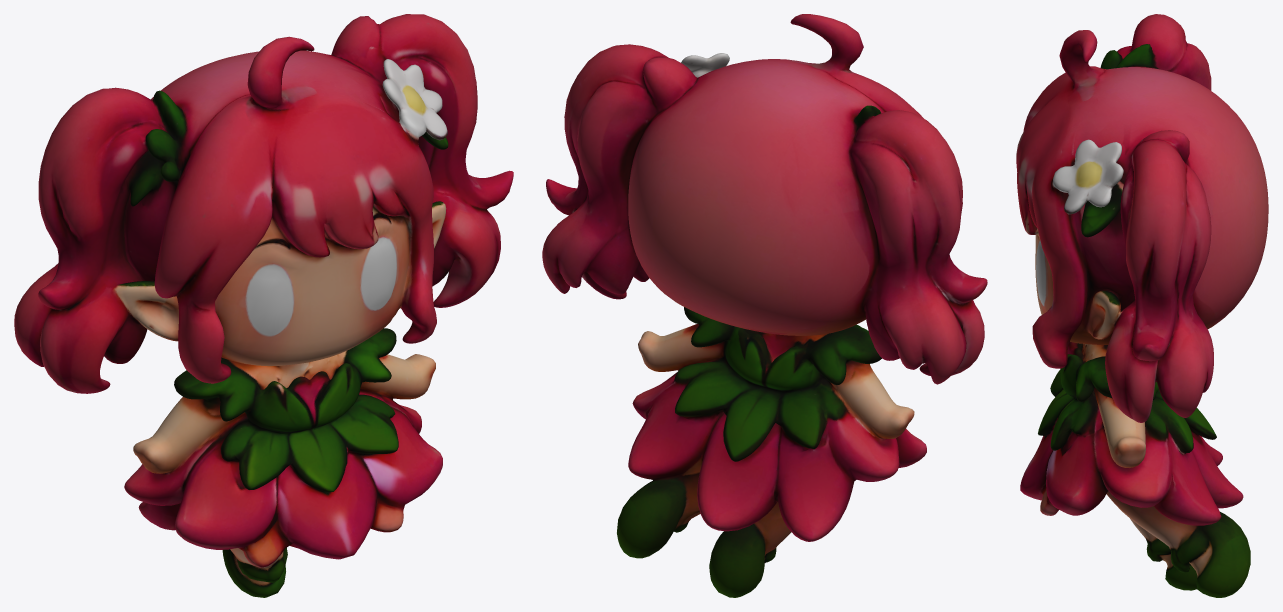
Rendered from PlayerModel.fbx.
3 views of the same model, side by side, from view 1: azimuth 30°, elevation 25°; view 2: azimuth 150°, elevation 25°; view 3: azimuth 270°, elevation 25° (orthographic). The views are drawn at different scales.
Visible parts, largest first — view 1: tripo_node_97e7c338; view 2: tripo_node_97e7c338; view 3: tripo_node_97e7c338.
Boxes of the visible parts, <box> form: tripo_node_97e7c338: <box>14,14,513,597</box>; tripo_node_97e7c338: <box>542,14,987,597</box>; tripo_node_97e7c338: <box>1016,14,1268,597</box>.
Bounding box in the file's own units: 82.58 × 42.38 × 99.95.
1 material, 1 textured.
